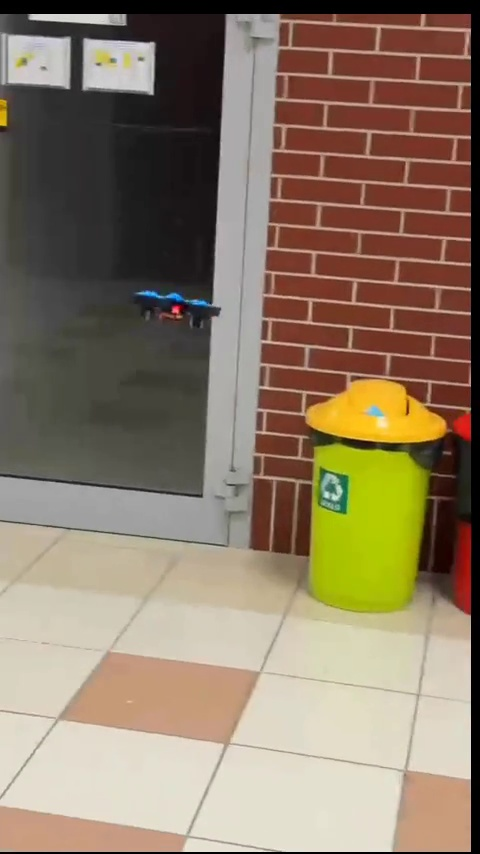drone: (129, 287, 233, 332)
